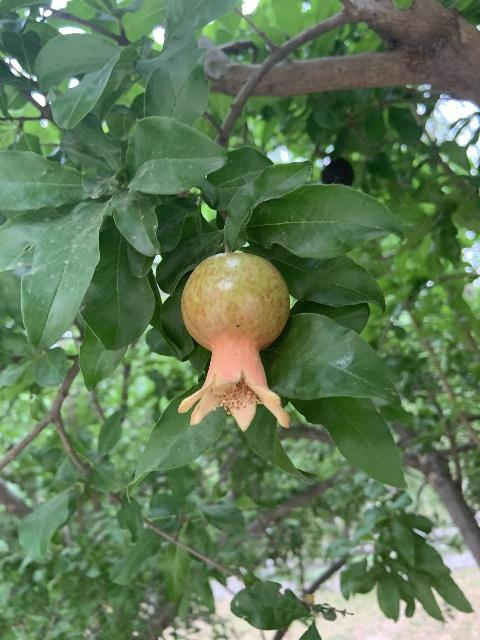early-fruit: (177, 251, 290, 432)
